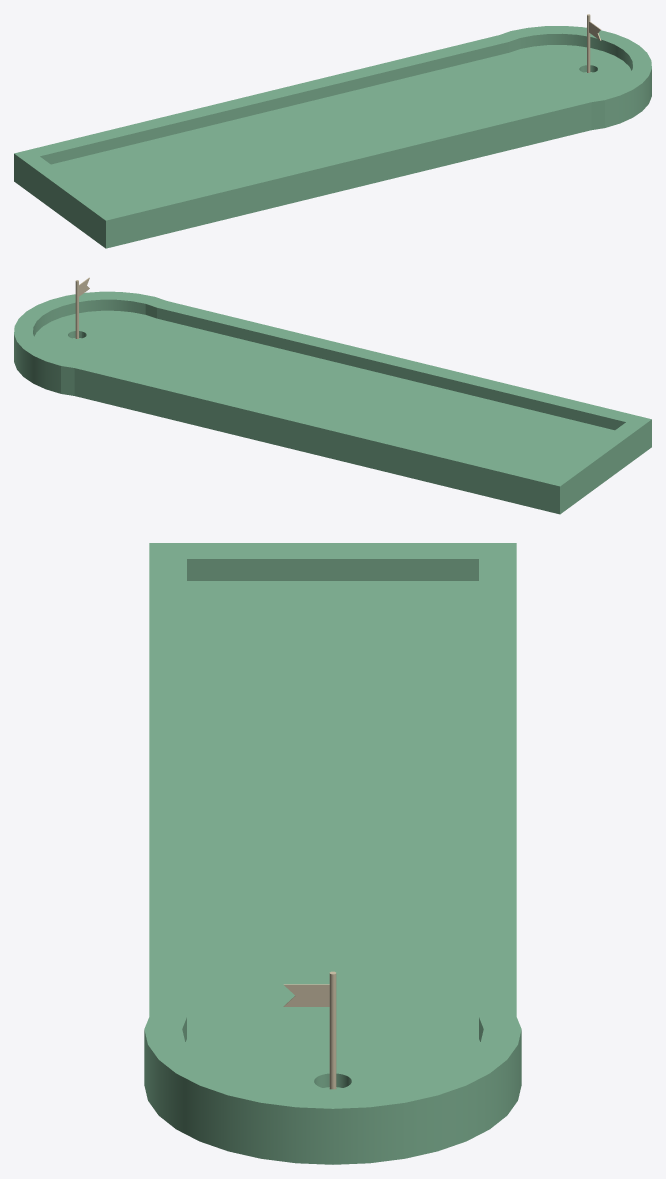
The model's file is minigolf-terrain.glb.
The picture shows the model from 3 angles, top to bottom: view 1: azimuth 30°, elevation 25°; view 2: azimuth 150°, elevation 25°; view 3: azimuth 270°, elevation 25°; orthographic projection. The views are drawn at different scales.
Visible parts, largest first — view 1: Cube_static, Cylinder_static; view 2: Cube_static, Cylinder_static; view 3: Cube_static, Cylinder_static.
Boxes of the visible parts, <box> form: Cube_static: <box>14,26,651,248</box>; Cylinder_static: <box>587,14,601,72</box>; Cube_static: <box>14,291,651,514</box>; Cylinder_static: <box>75,277,89,338</box>; Cube_static: <box>144,543,521,1164</box>; Cylinder_static: <box>283,971,336,1089</box>.
Bounding box in the file's own units: 2.4 × 0.2813 × 0.6765.
